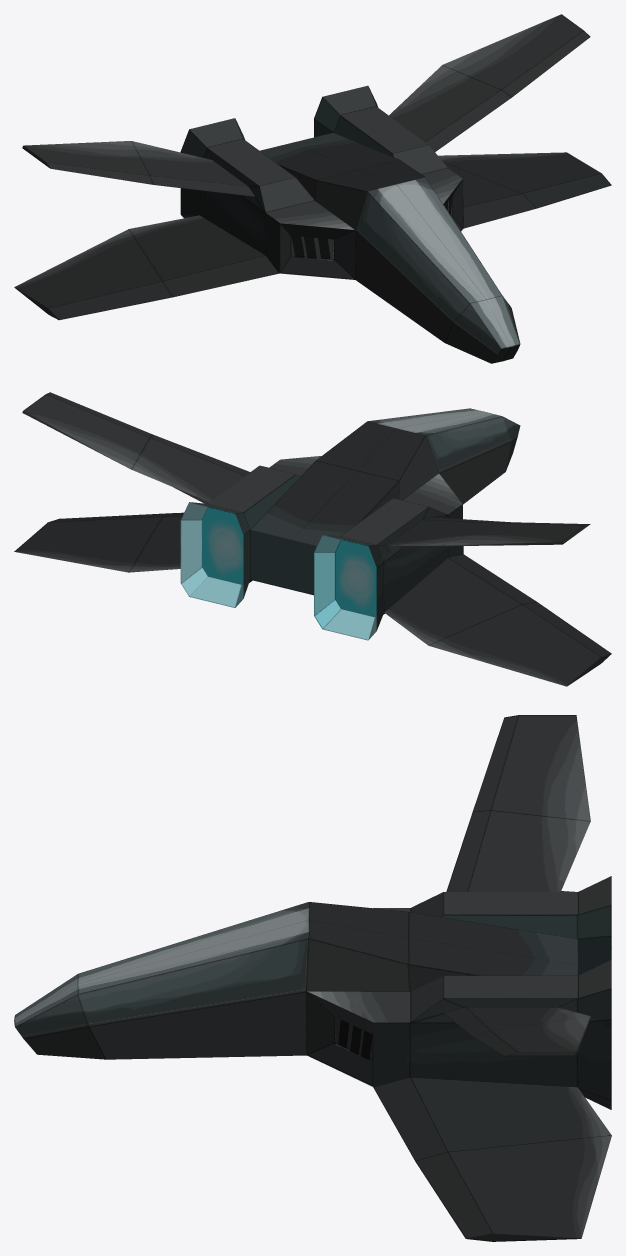
Rendered from DevShipAAAA.glb.
The picture shows the model from 3 angles, top to bottom: view 1: azimuth 30°, elevation 25°; view 2: azimuth 150°, elevation 25°; view 3: azimuth 270°, elevation 25°; orthographic projection. The views are drawn at different scales.
Parts seen in each view (by area): view 1: Cube; view 2: Cube; view 3: Cube.
Part boxes in pixels (left/top/right/bottom): Cube: left=14, top=14, right=611, bottom=363; Cube: left=14, top=392, right=611, bottom=686; Cube: left=14, top=715, right=611, bottom=1241.
Size of the model in its own units: 6.07 by 1.51 by 4.42.
2 materials, 1 textured.
